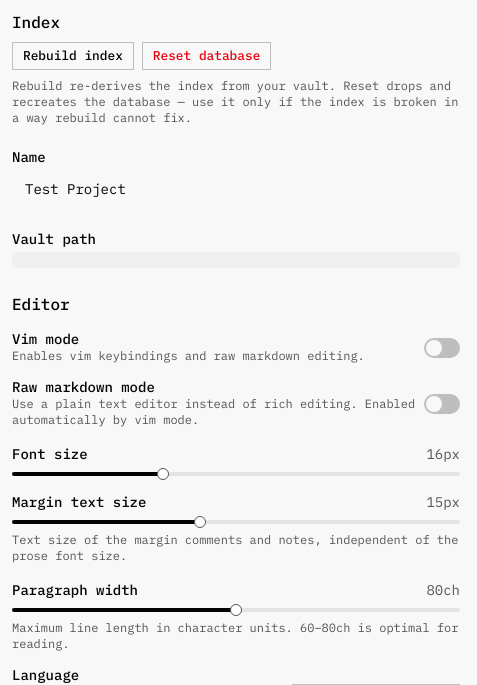
Scenario: GeneralTab › surfaces the server error message when a rebuild fails
Click the button "Rebuild index" at (73,56), box 12,42 -> 134,70
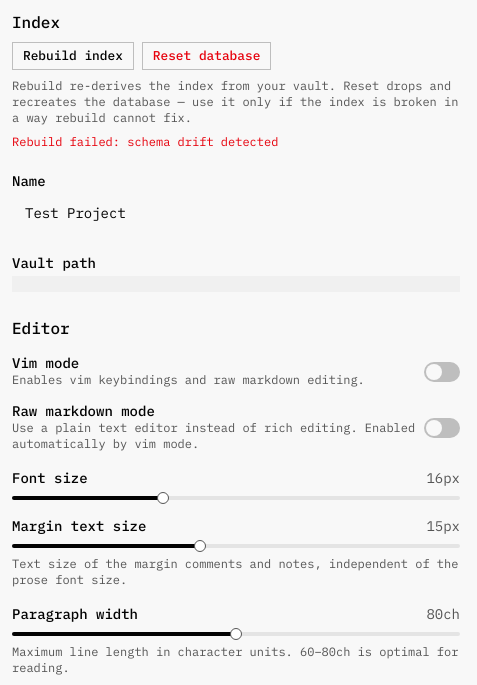
Result: the text "Rebuild failed: schema drift detected" is shown at 12,134 -> 278,149
